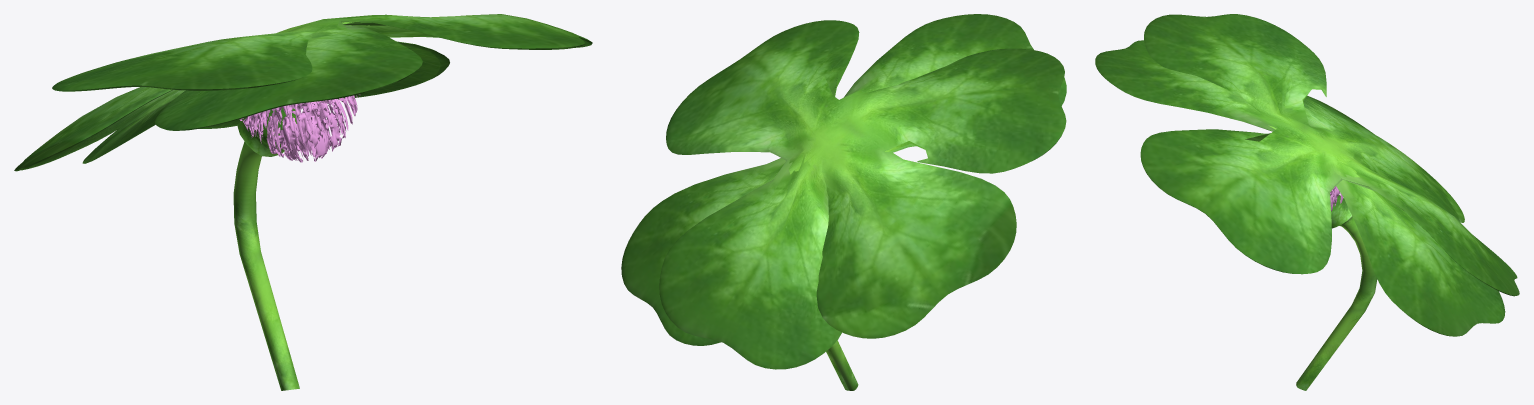
File: clovers.glb
3 views of the same model, side by side, from view 1: azimuth 30°, elevation 25°; view 2: azimuth 150°, elevation 25°; view 3: azimuth 270°, elevation 25° (orthographic). The views are drawn at different scales.
Parts seen in each view (by area): view 1: clover4, clover3; view 2: clover4, clover3; view 3: clover4, clover3.
Part boxes in pixels (left/top/right/bottom): clover4: left=14, top=14, right=592, bottom=390; clover3: left=52, top=18, right=339, bottom=163; clover4: left=621, top=14, right=1066, bottom=390; clover3: left=659, top=48, right=1066, bottom=369; clover4: left=1095, top=40, right=1505, bottom=390; clover3: left=1144, top=14, right=1519, bottom=296.
Bounding box in the file's own units: 7.45 × 5.76 × 7.24.
Materials: 2 (1 with a texture image).
